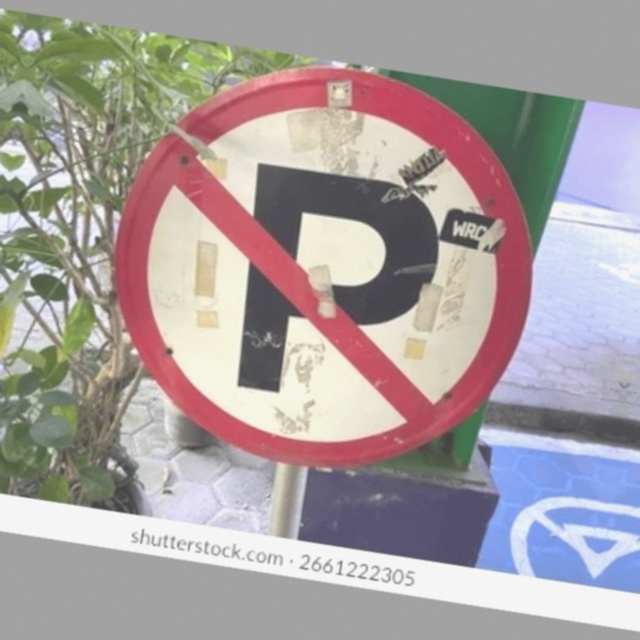No_Parking: (93, 38, 553, 482)
